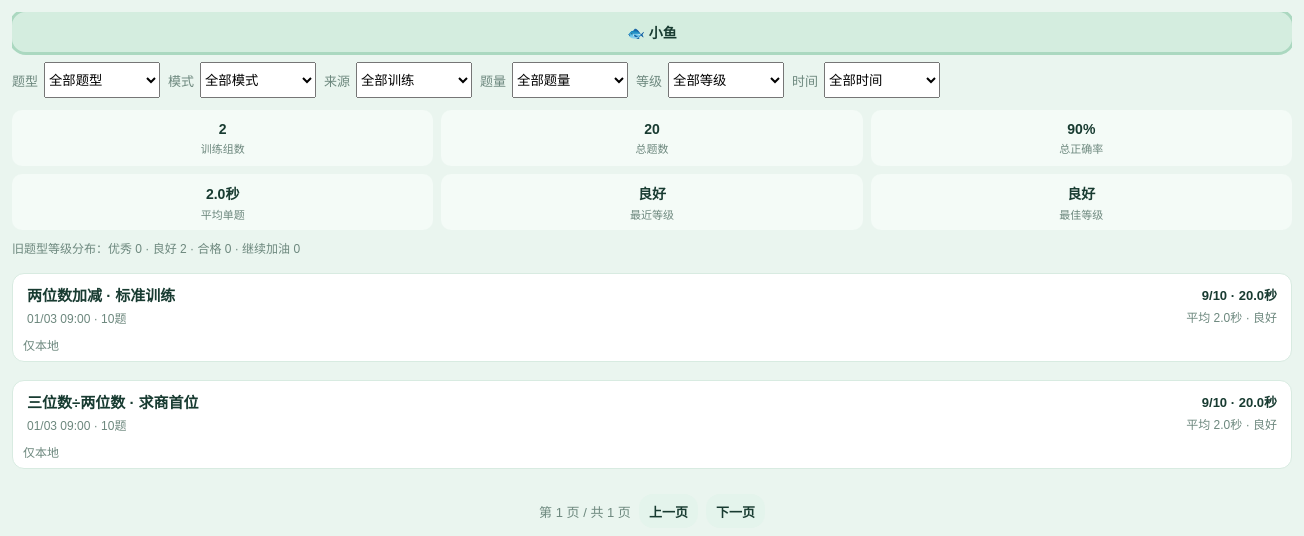
HistoryList › only offers type and subtype filters that exist for the selected user
The image size is (1304, 536).
Select "三位数÷两位数" in the dropdown named "筛选题型" at x=102, y=80, box [44,62,160,98]
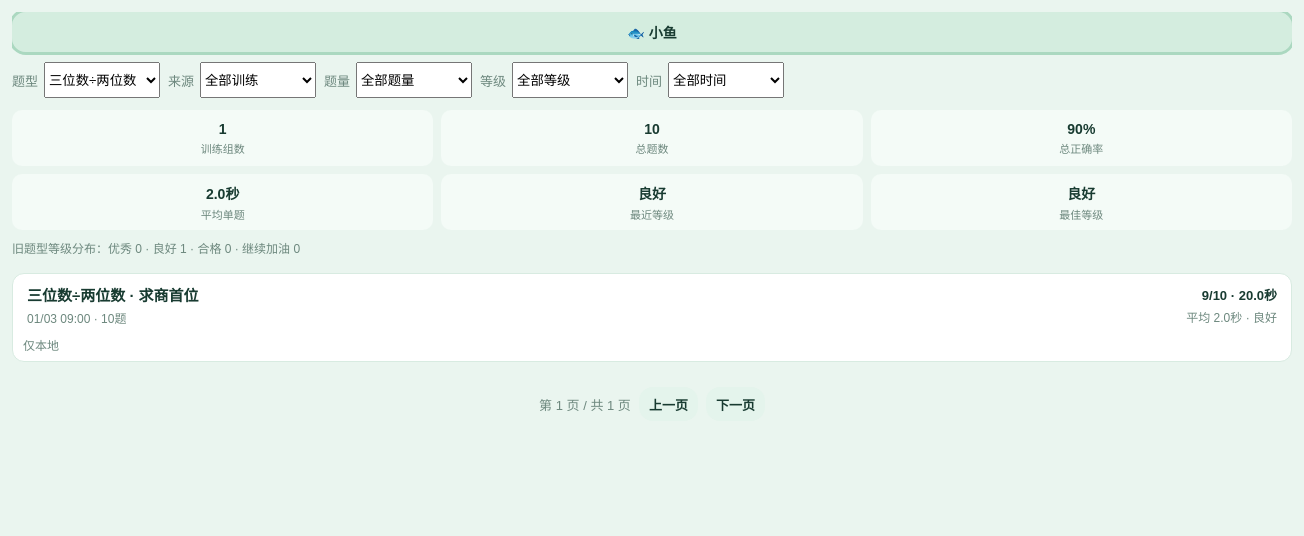
Expected: the element with class "historySession" shows "求商首位", [13,274,1291,336]
Expected: the dropdown labelled "筛选子模式" is gone
Expected: the number of elements with class "historySession" is 1, [12,273,1292,362]
